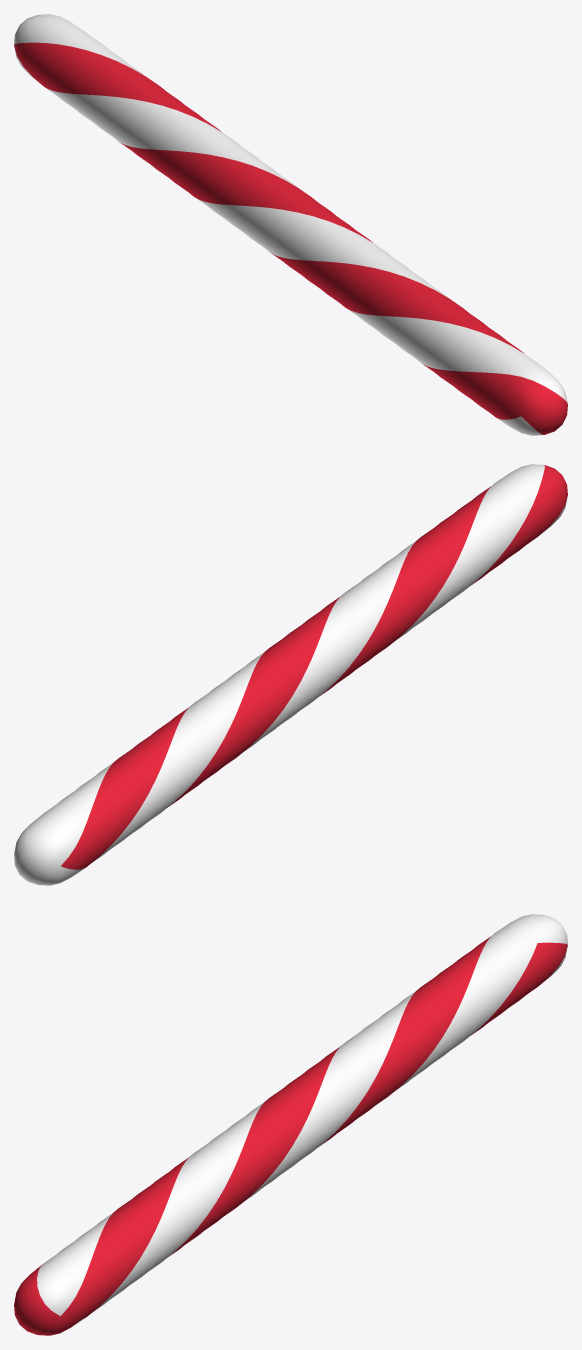
File: longcandyJ.fbx
3 views of the same model, one above another, from view 1: azimuth 30°, elevation 25°; view 2: azimuth 150°, elevation 25°; view 3: azimuth 330°, elevation 25° (orthographic).
Visible parts, largest first — view 1: Cylinder; view 2: Cylinder; view 3: Cylinder.
Part boxes in pixels (box(x1,y1,x2,y2)): Cylinder: box(14, 14, 567, 435); Cylinder: box(14, 464, 567, 885); Cylinder: box(14, 914, 567, 1335).
Bounding box in the file's own units: 15.4 × 15.4 × 233.
